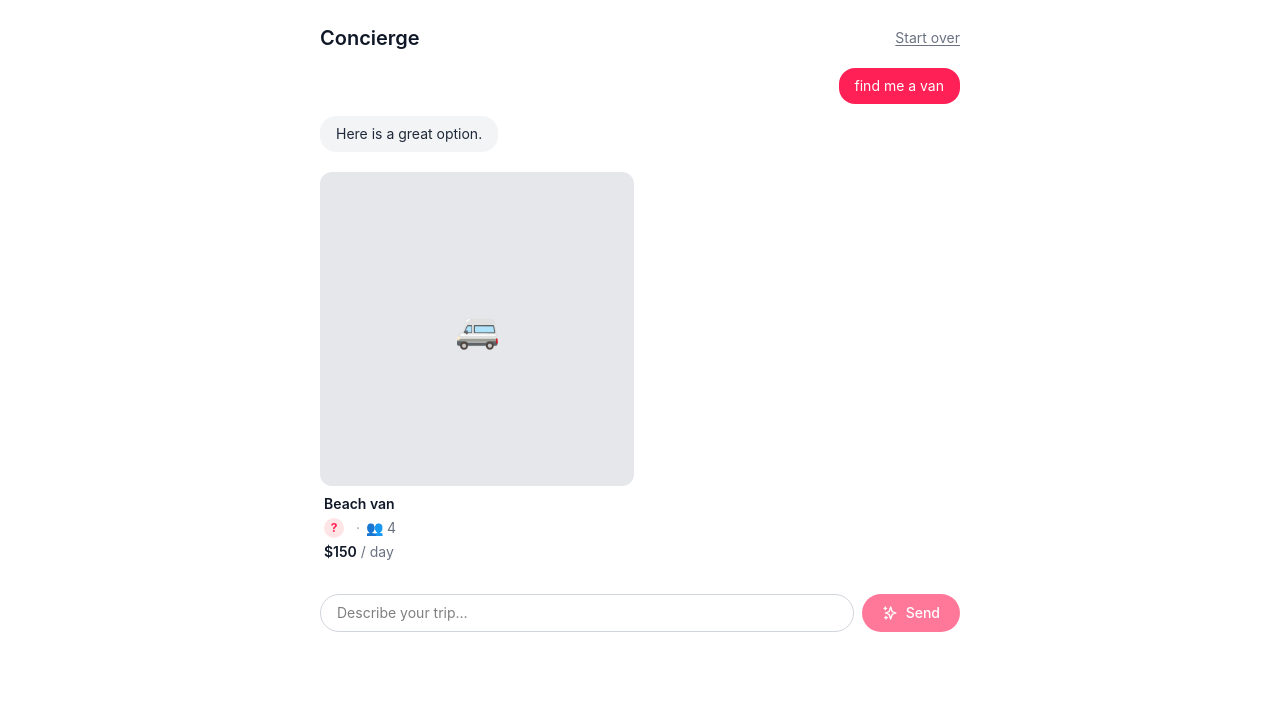
Scenario: deletes the conversation when Start over is confirmed
Expected: the text "Here is a great option." is shown, [320,116,498,152]
What coordinates should you click on to do the following:
click the button "Start over"
I would click on:
 (928, 38)
Its box is [895,28,960,48].
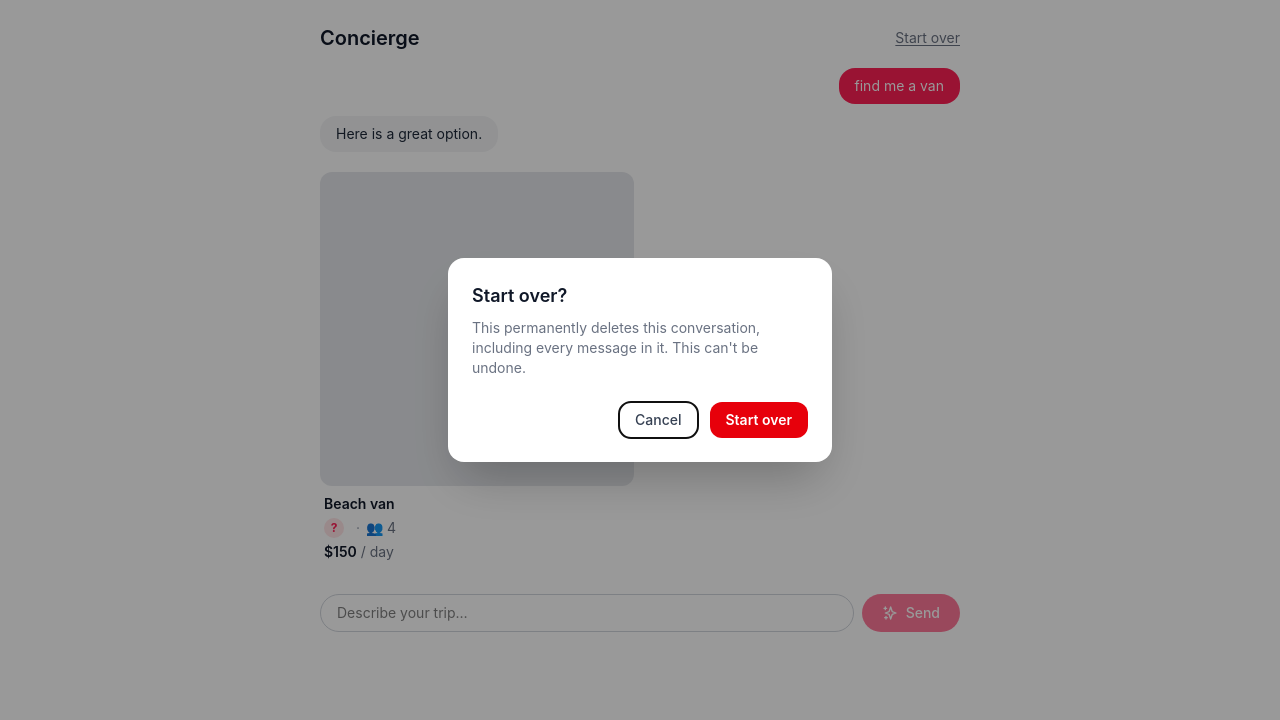
What coordinates should you click on to do the following:
click the button "Start over"
I would click on:
 (759, 420)
Its box is [710,402,808,438].
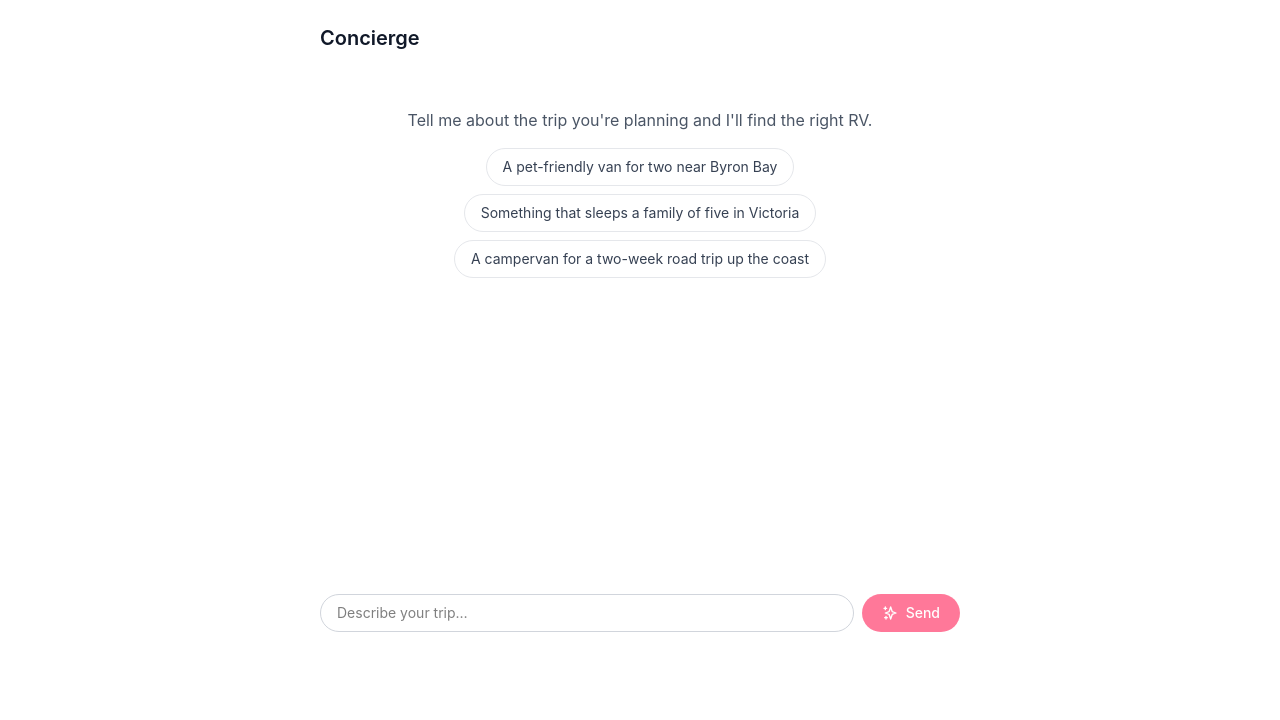
Expected: the text "Here is a great option." is gone
Expected: the button "A pet-friendly van for two near Byron Bay" is shown, [486,148,794,186]
